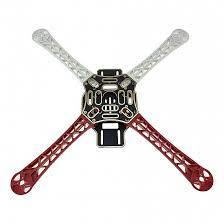drone: (19, 23, 215, 197)
